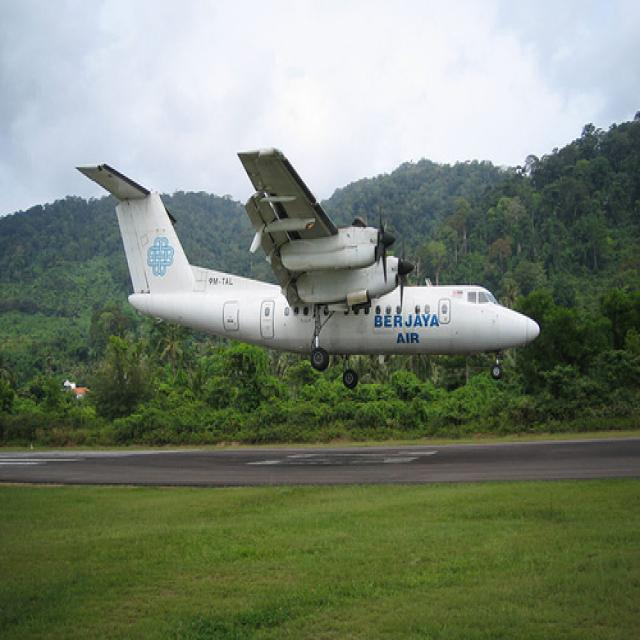aeroplane: (71, 143, 544, 394)
